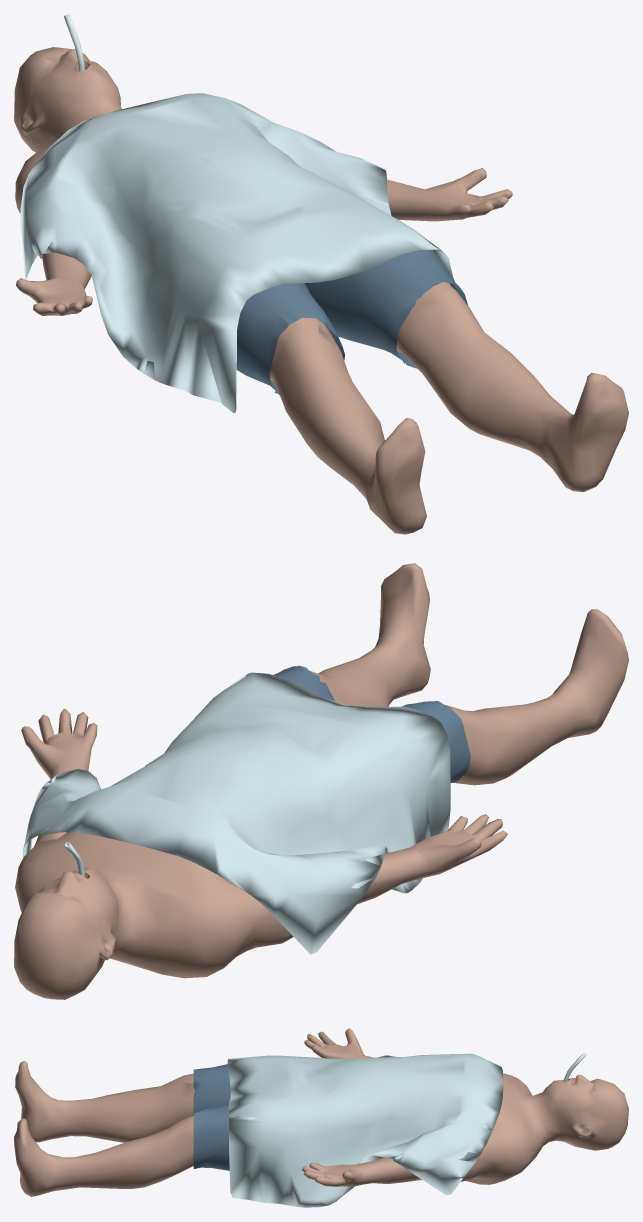
Rendered from patient_001_lod2.glb.
The picture shows the model from 3 angles, top to bottom: view 1: azimuth 30°, elevation 25°; view 2: azimuth 150°, elevation 25°; view 3: azimuth 270°, elevation 25°; orthographic projection. The views are drawn at different scales.
Visible parts, largest first — view 1: Patient_LOD2 blanket proxy, Patient_LOD2 skin proxy, Patient_LOD2 underwear proxy; view 2: Patient_LOD2 blanket proxy, Patient_LOD2 skin proxy, Patient_LOD2 underwear proxy; view 3: Patient_LOD2 blanket proxy, Patient_LOD2 skin proxy, Patient_LOD2 underwear proxy.
Part boxes in pixels (x1=…): Patient_LOD2 blanket proxy: x1=20, y1=93, x2=452, y2=413; Patient_LOD2 skin proxy: x1=14, y1=47, x2=628, y2=534; Patient_LOD2 underwear proxy: x1=236, y1=250, x2=467, y2=395; Patient_LOD2 blanket proxy: x1=22, y1=672, x2=450, y2=954; Patient_LOD2 skin proxy: x1=14, y1=563, x2=628, y2=999; Patient_LOD2 underwear proxy: x1=274, y1=665, x2=470, y2=782; Patient_LOD2 blanket proxy: x1=227, y1=1053, x2=503, y2=1207; Patient_LOD2 skin proxy: x1=14, y1=1028, x2=628, y2=1196; Patient_LOD2 underwear proxy: x1=193, y1=1064, x2=230, y2=1170.
Size of the model in its own units: 1.04 by 0.3821 by 1.82.
